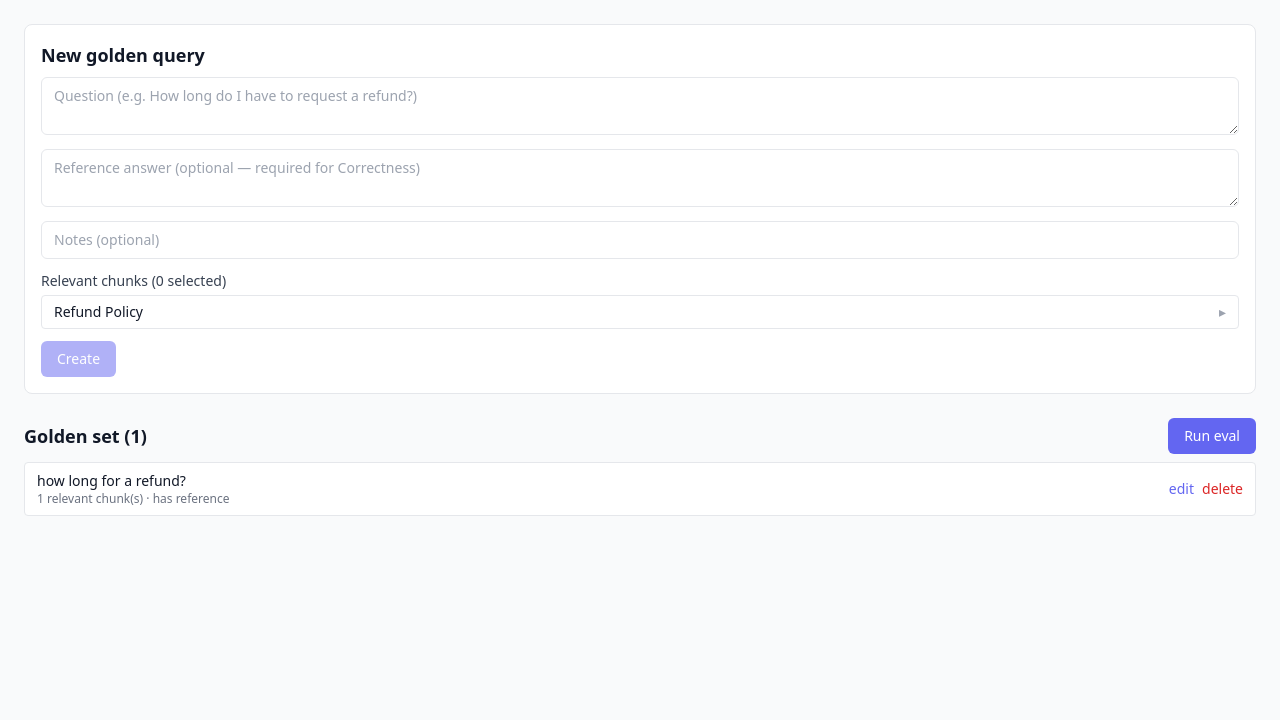
Test: lists golden queries and shows eval results after running
Expected: the text "how long for a refund?" is shown, [37, 471, 186, 490]
Expected: the text "1 relevant chunk(s) · has reference" is shown, [37, 490, 230, 507]
Click the button "Run eval": (1212, 436) [1168, 418, 1256, 454]
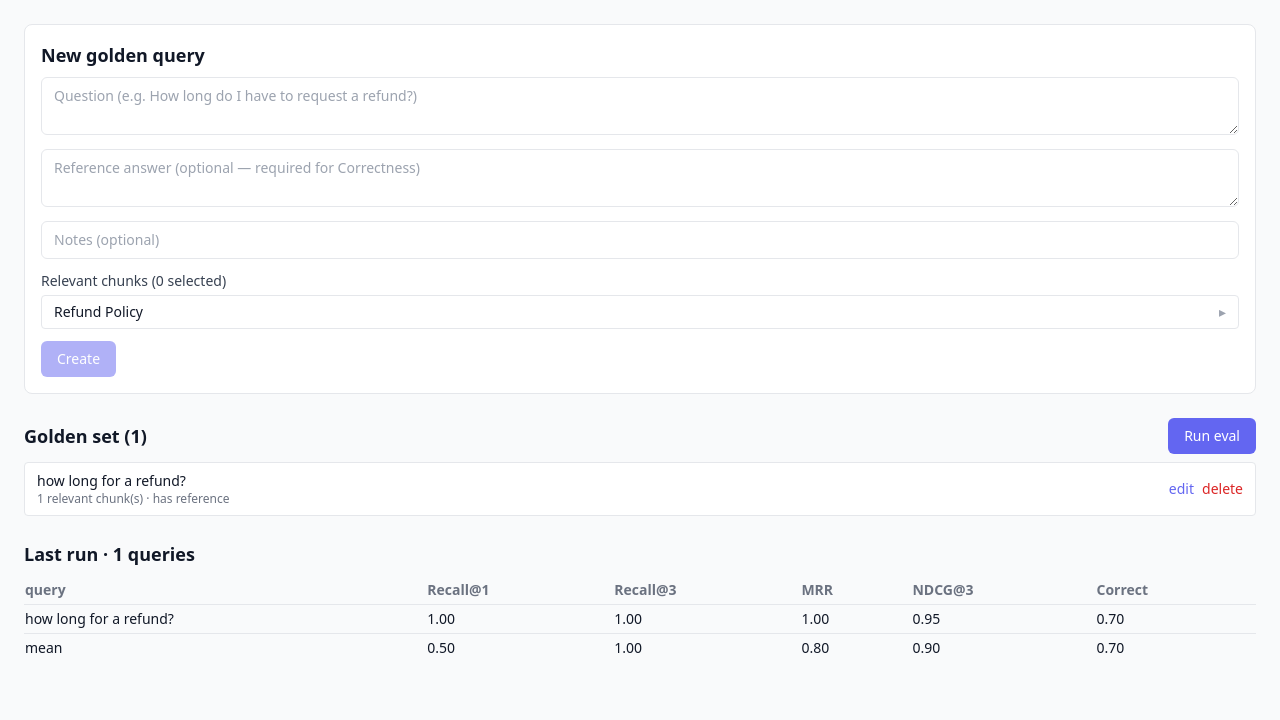
Result: the table named "eval results" is shown at [24, 576, 1256, 662]
Result: the column heading "Recall@1" is shown at [426, 576, 613, 604]
Result: the text "0.70" next to "0.95" is shown at [1096, 609, 1124, 628]
